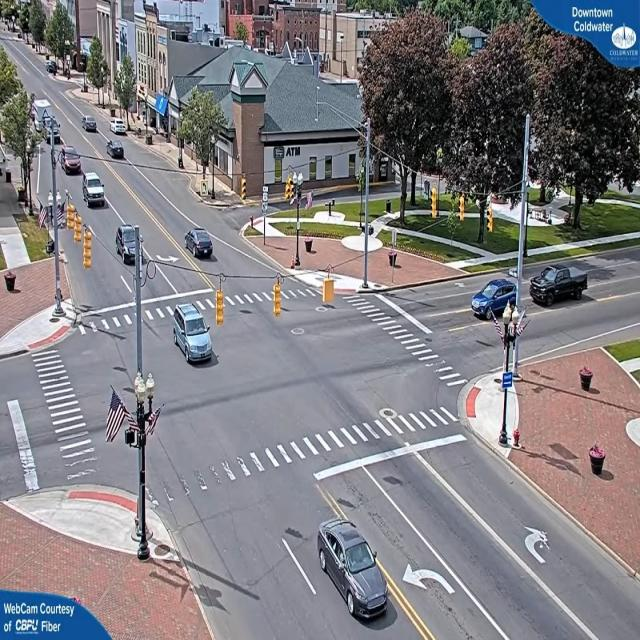car: (317, 520, 394, 624), (172, 302, 218, 364), (530, 266, 589, 307), (473, 278, 519, 322), (184, 230, 214, 259), (82, 173, 104, 210), (60, 146, 82, 175), (111, 120, 129, 136)
